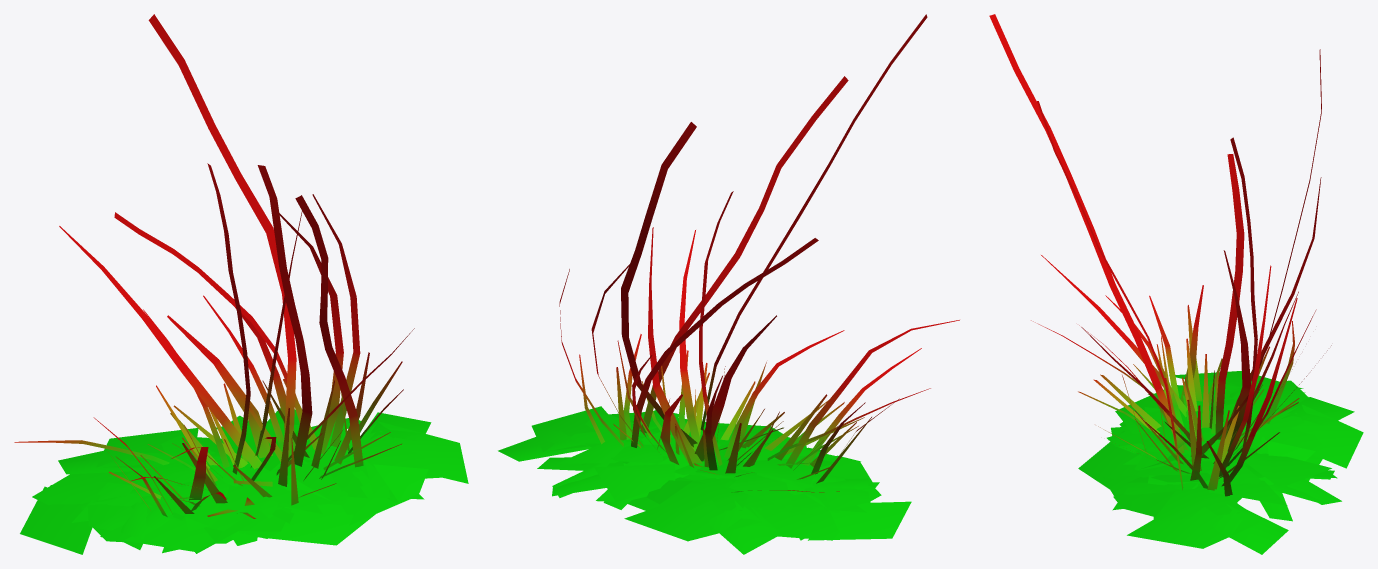
File: Wild Grass_LOD3_Var8_vczndjqja.fbx
The picture shows the model from 3 angles, left to right: view 1: azimuth 30°, elevation 25°; view 2: azimuth 150°, elevation 25°; view 3: azimuth 270°, elevation 25°; orthographic projection. The views are drawn at different scales.
Visible parts, largest first — view 1: _sjhz_Var8_LOD3; view 2: _sjhz_Var8_LOD3; view 3: _sjhz_Var8_LOD3.
Part boxes in pixels (left/top/right/bottom): _sjhz_Var8_LOD3: left=14, top=14, right=468, bottom=554; _sjhz_Var8_LOD3: left=498, top=14, right=959, bottom=554; _sjhz_Var8_LOD3: left=989, top=14, right=1363, bottom=554.
Bounding box in the file's own units: 89.72 × 90.56 × 76.74.
